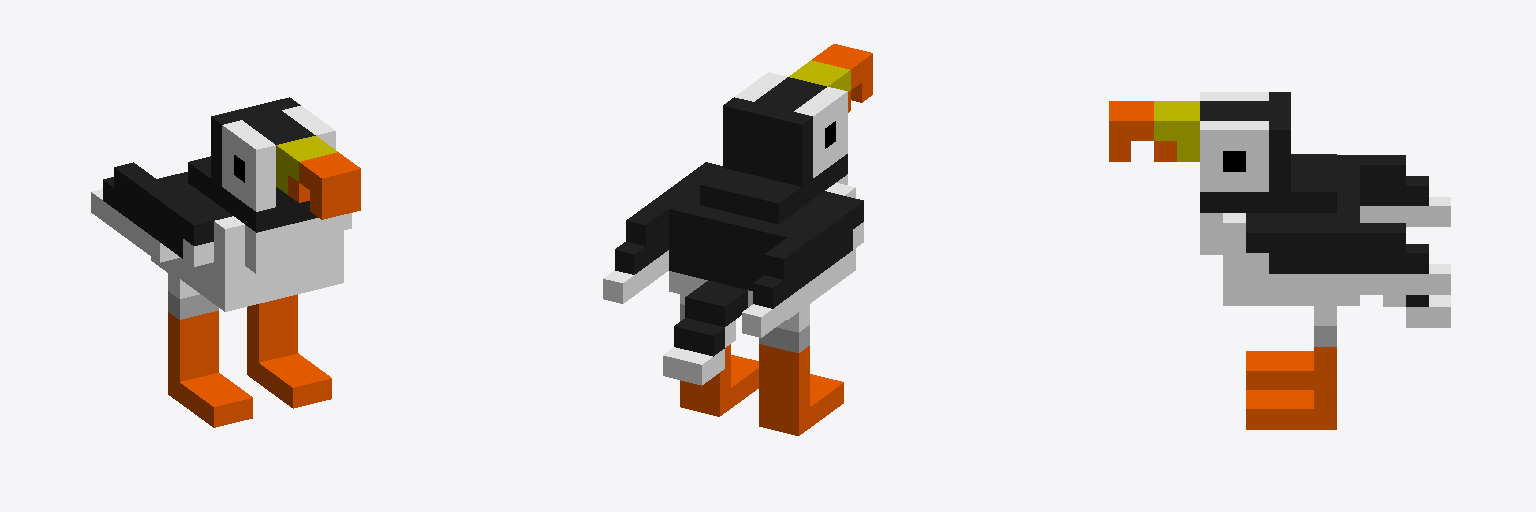
3 renders of one model, left to right at view 1: azimuth 30°, elevation 25°; view 2: azimuth 150°, elevation 25°; view 3: azimuth 270°, elevation 25°, orthographic.
Parts seen in each view (by area): view 1: pre_puffin; view 2: pre_puffin; view 3: pre_puffin.
Boxes of the visible parts, box(x1,y1,x2,y2) form: pre_puffin: box(91, 97, 360, 427); pre_puffin: box(603, 44, 872, 435); pre_puffin: box(1109, 92, 1450, 429).
Size of the model in its own units: 8 by 14 by 15.
1 materials, 1 textured.